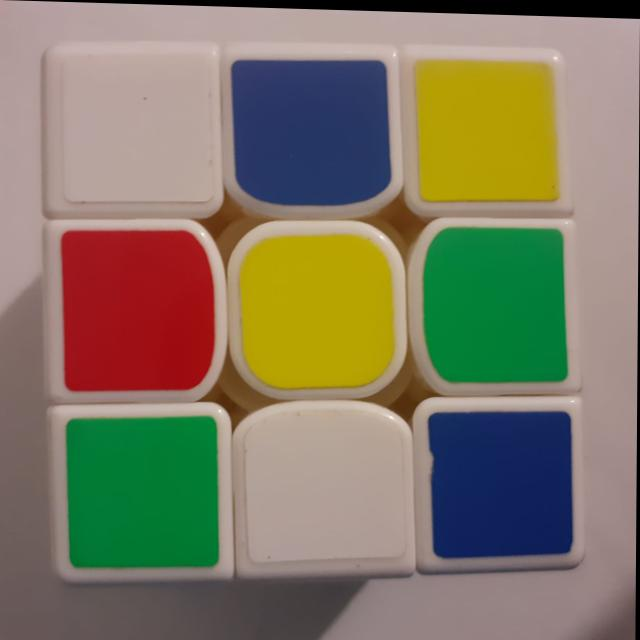Blue: (226, 49, 396, 213), (422, 399, 581, 562)
Green: (49, 410, 230, 583), (418, 221, 579, 396)
Red: (48, 228, 227, 403)
White: (236, 406, 417, 576), (47, 46, 222, 219)
Yellow: (231, 217, 412, 398), (404, 43, 573, 217)
